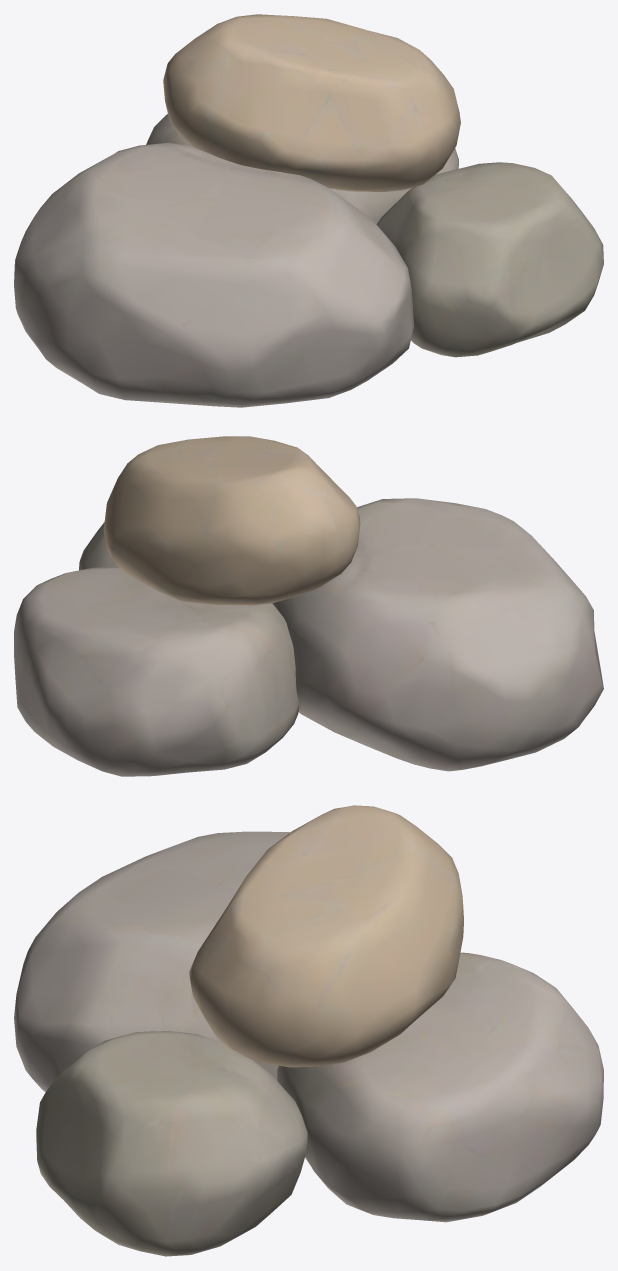
Rendered from stones.glb.
The picture shows the model from 3 angles, top to bottom: view 1: azimuth 30°, elevation 25°; view 2: azimuth 150°, elevation 25°; view 3: azimuth 270°, elevation 25°; orthographic projection. The views are drawn at different scales.
Size of the model in its own units: 1 by 0.5167 by 0.8797.
1 material, 1 textured.
